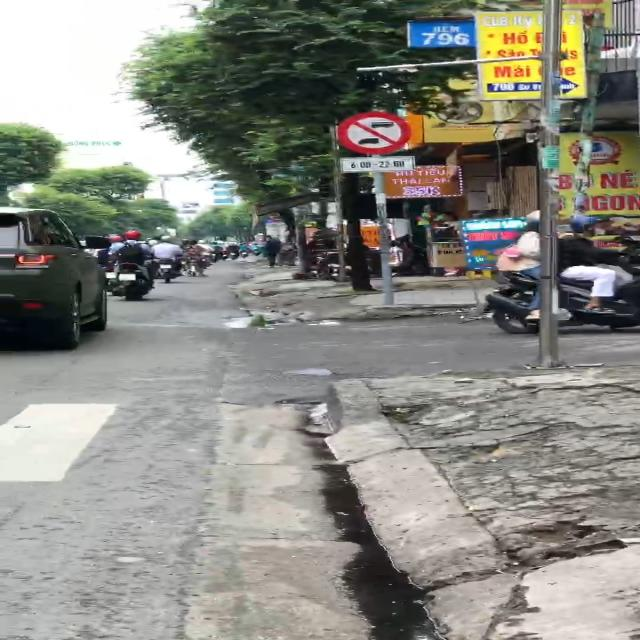Bien bao cam xe oto khach va xe oto tai: (333, 108, 415, 156)
